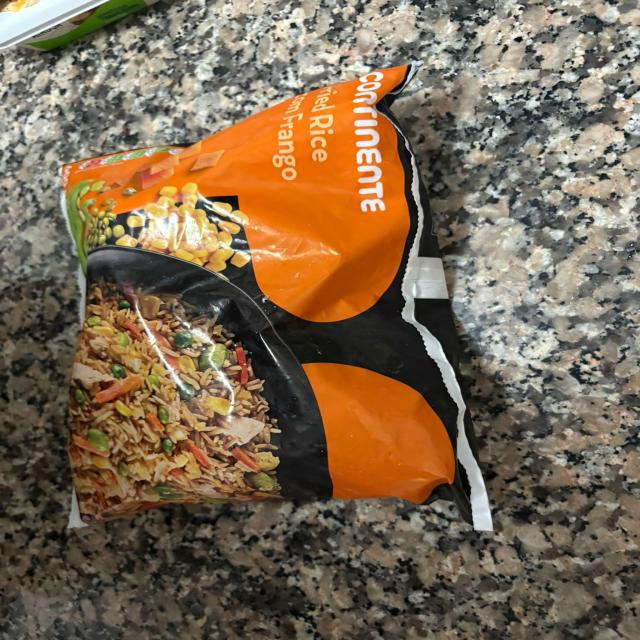good_package: (62, 62, 491, 530)
